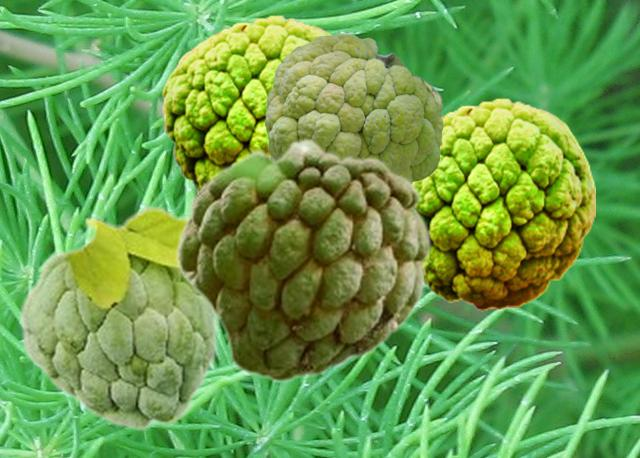atis: (173, 137, 431, 382), (17, 204, 220, 431), (415, 97, 594, 310), (161, 14, 333, 191), (265, 33, 442, 183)
